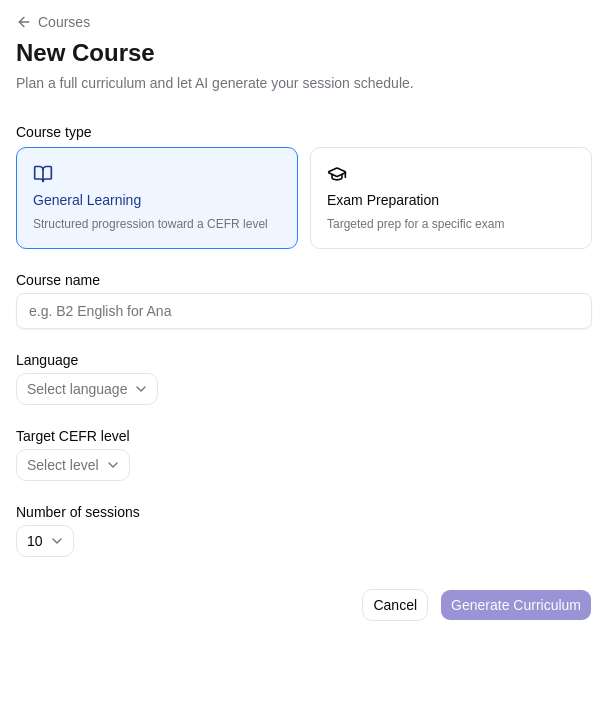
CourseNew wizard › switches to exam-prep mode on click
Click the button with test id "mode-exam-prep" at (383, 200), box [310,147,592,249]
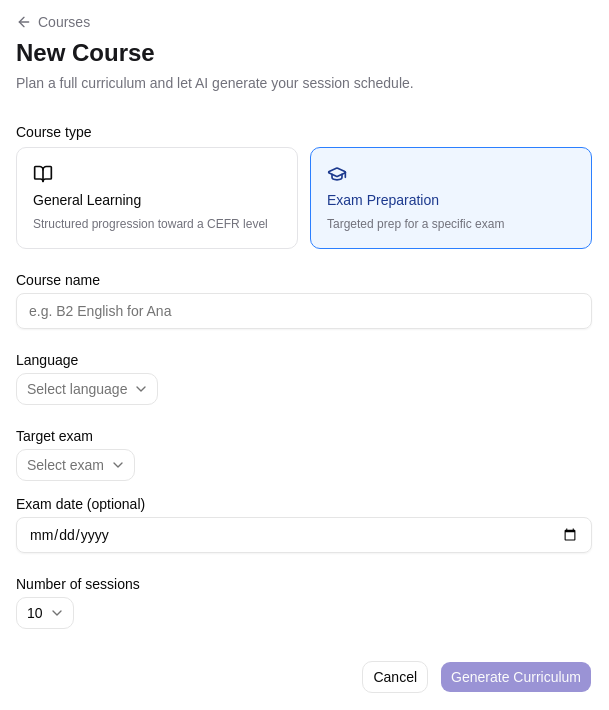
Expected: the dropdown with test id "exam-select" is shown, [16,449,135,481]
